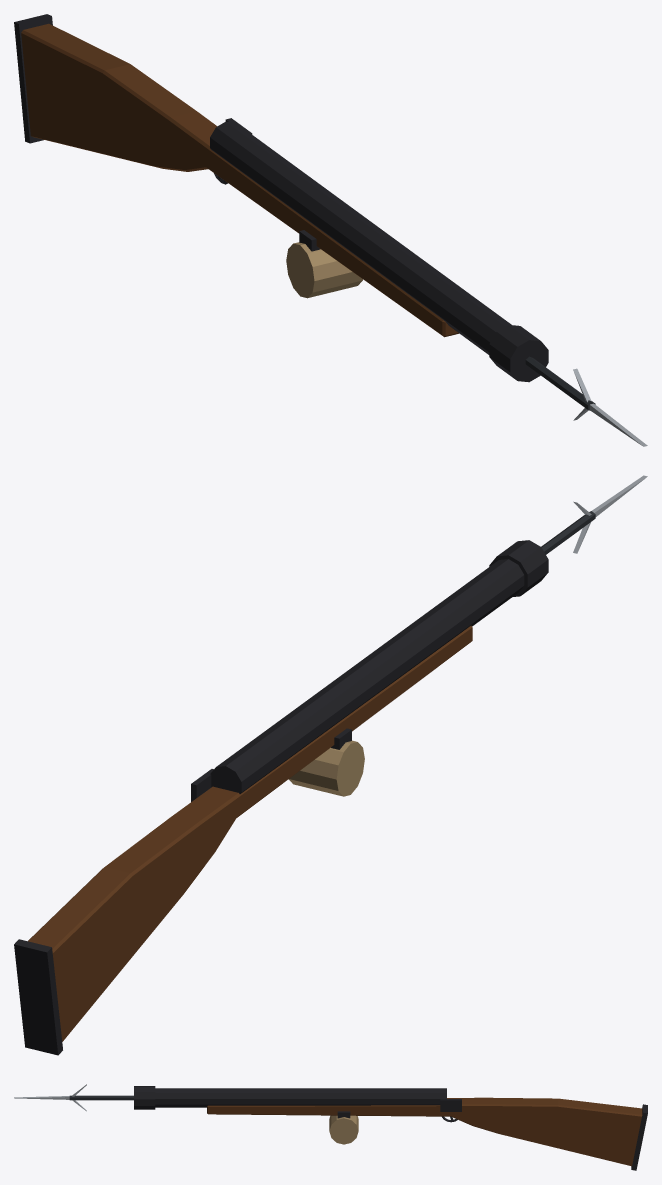
File: harpoongun.glb
3 renders of one model, top to bottom at view 1: azimuth 30°, elevation 25°; view 2: azimuth 150°, elevation 25°; view 3: azimuth 270°, elevation 25°, orthographic. The views are drawn at different scales.
Parts seen in each view (by area): view 1: harpoongun; view 2: harpoongun; view 3: harpoongun.
Part boxes in pixels (x1,y1,x2,y2): harpoongun: (14,14,647,446); harpoongun: (14,475,647,1055); harpoongun: (14,1084,647,1170).
Size of the model in its own units: 0.07 by 0.2109 by 1.48.
